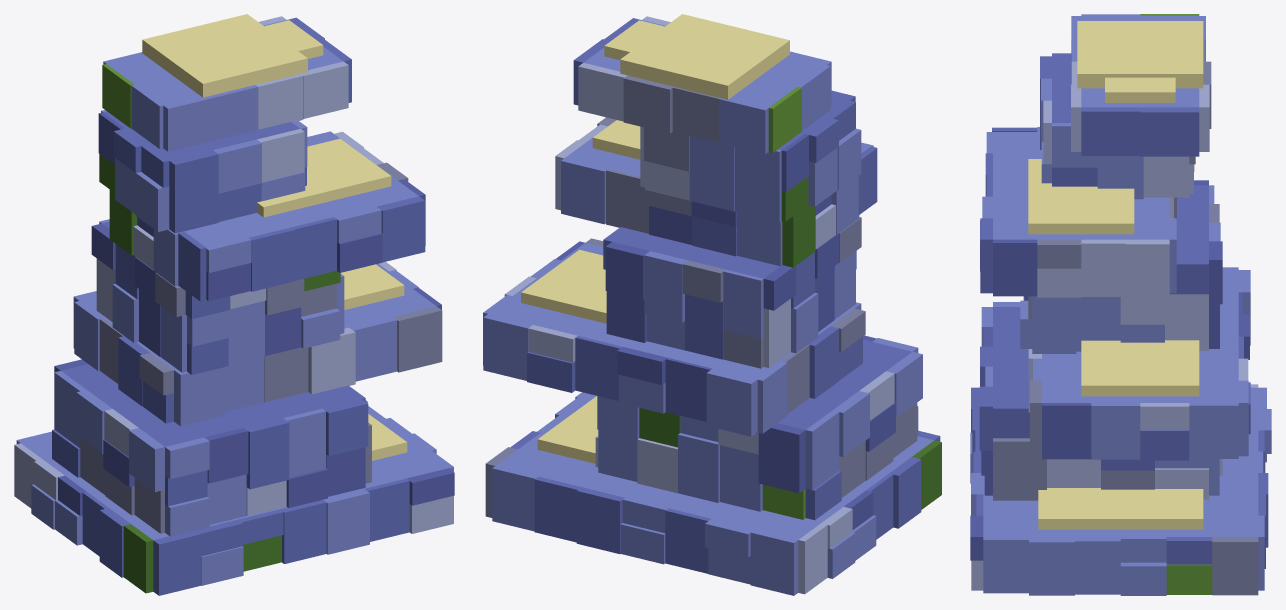
Rendered from ReefPinnacleTall.glb.
The picture shows the model from 3 angles, left to right: view 1: azimuth 30°, elevation 25°; view 2: azimuth 150°, elevation 25°; view 3: azimuth 270°, elevation 25°; orthographic projection. The views are drawn at different scales.
Visible parts, largest first — view 1: ReefPinnacleTall; view 2: ReefPinnacleTall; view 3: ReefPinnacleTall.
Part boxes in pixels (x1,y1,x2,y2): ReefPinnacleTall: (14,14,454,595); ReefPinnacleTall: (483,14,941,595); ReefPinnacleTall: (970,14,1271,595).
Size of the model in its own units: 20.22 by 26.3 by 15.34.
1 material, 1 textured.
